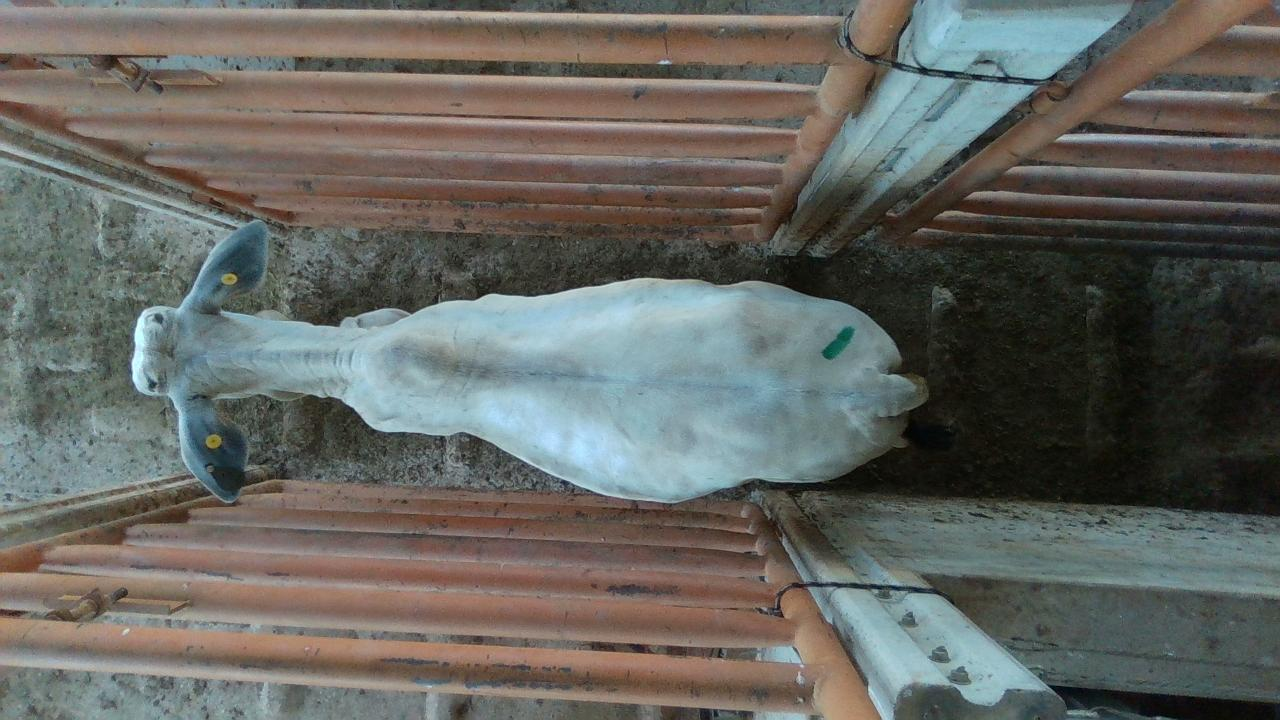cattle: (129, 218, 930, 506)
